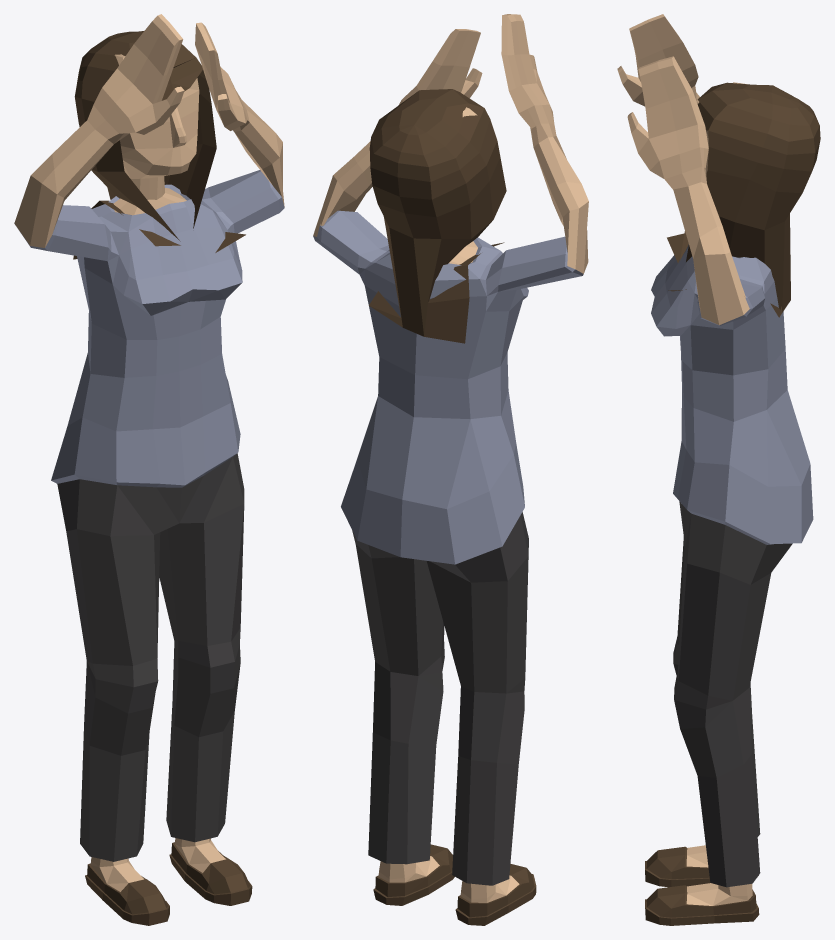
File: Female_Crowd_HandsOnHead.glb
3 views of the same model, side by side, from view 1: azimuth 30°, elevation 25°; view 2: azimuth 150°, elevation 25°; view 3: azimuth 270°, elevation 25° (orthographic). The views are drawn at different scales.
Visible parts, largest first — view 1: Female_Crowd_HandsOnHead; view 2: Female_Crowd_HandsOnHead; view 3: Female_Crowd_HandsOnHead.
Boxes of the visible parts, x1,y1,x2,y2 form: Female_Crowd_HandsOnHead: (14,14,284,925); Female_Crowd_HandsOnHead: (313,14,588,925); Female_Crowd_HandsOnHead: (617,14,820,925).
Bounding box in the file's own units: 0.5496 × 1.78 × 0.3784.
